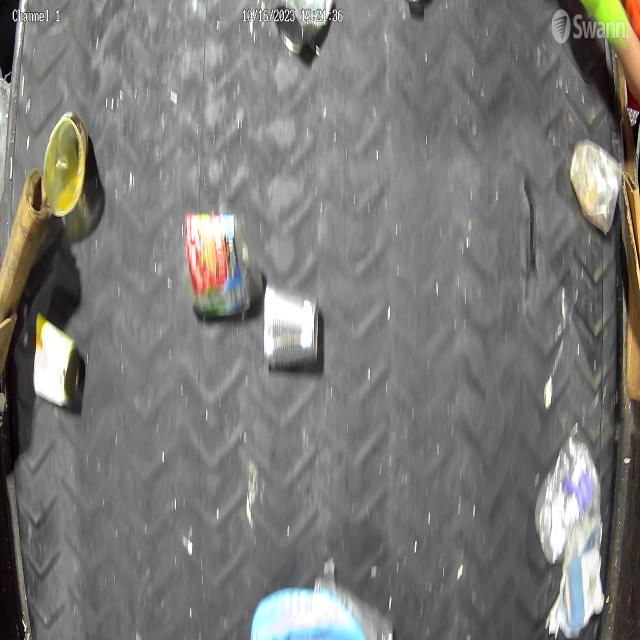can: (262, 276, 321, 370), (42, 108, 89, 219), (32, 310, 82, 410), (273, 0, 337, 57)
plastic_bottle: (534, 431, 602, 566)
